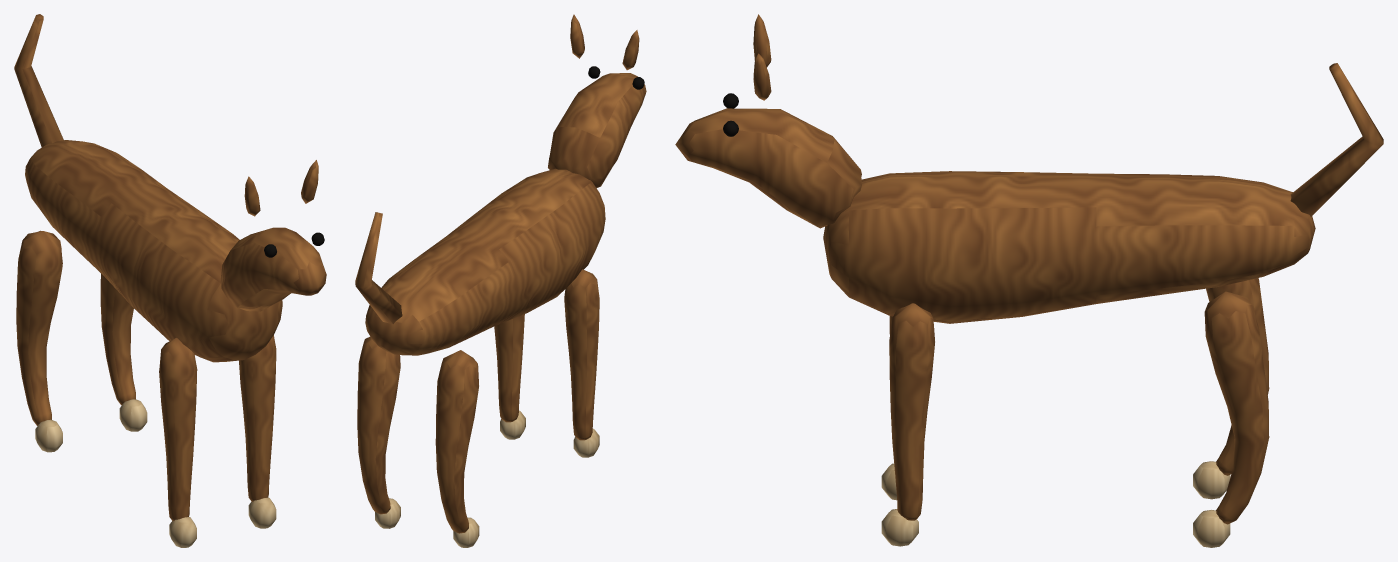
The model's file is animal_village_dog.glb.
3 renders of one model, left to right at view 1: azimuth 30°, elevation 25°; view 2: azimuth 150°, elevation 25°; view 3: azimuth 270°, elevation 25°, orthographic. The views are drawn at different scales.
Visible parts, largest first — view 1: Body.003, Head.003, Leg_BL.003, Leg_FL.003, Leg_FR.003, Leg_BR.003, Tail.003, Leg_BR_Foot.003, Leg_BL_Foot.003, Leg_FR_Foot.003, Leg_FL_Foot.003; view 2: Body.003, Head.003, Leg_BL.003, Leg_BR.003, Leg_FL.003, Leg_FR.003, Tail.003, Leg_FL_Foot.003, Leg_BL_Foot.003, Leg_FR_Foot.003, Leg_BR_Foot.003; view 3: Body.003, Head.003, Leg_BR.003, Leg_FR.003, Tail.003, Leg_BL.003, Leg_BR_Foot.003, Leg_BL_Foot.003, Leg_FR_Foot.003.
Boxes of the visible parts, <box> form: Body.003: <box>25,140,282,362</box>; Head.003: <box>220,160,326,311</box>; Leg_BL.003: <box>16,230,62,425</box>; Leg_FL.003: <box>159,338,197,521</box>; Leg_FR.003: <box>239,335,276,501</box>; Leg_BR.003: <box>100,273,135,405</box>; Tail.003: <box>14,14,63,147</box>; Leg_BR_Foot.003: <box>119,399,147,431</box>; Leg_BL_Foot.003: <box>35,419,62,452</box>; Leg_FR_Foot.003: <box>248,497,276,528</box>; Leg_FL_Foot.003: <box>169,517,196,547</box>; Body.003: <box>365,168,605,355</box>; Head.003: <box>548,14,646,188</box>; Leg_BL.003: <box>435,350,478,533</box>; Leg_BR.003: <box>357,337,400,514</box>; Leg_FL.003: <box>564,269,599,440</box>; Leg_FR.003: <box>494,314,524,422</box>; Tail.003: <box>355,212,402,324</box>; Leg_FL_Foot.003: <box>573,428,599,457</box>; Leg_BL_Foot.003: <box>453,517,479,547</box>; Leg_FR_Foot.003: <box>500,410,525,439</box>; Leg_BR_Foot.003: <box>375,498,400,528</box>; Body.003: <box>823,171,1315,323</box>; Head.003: <box>675,14,861,228</box>; Leg_BR.003: <box>1204,291,1269,524</box>; Leg_FR.003: <box>889,303,934,520</box>; Tail.003: <box>1290,63,1383,216</box>; Leg_BL.003: <box>1206,278,1269,475</box>; Leg_BR_Foot.003: <box>1193,510,1230,547</box>; Leg_BL_Foot.003: <box>1193,461,1230,499</box>; Leg_FR_Foot.003: <box>881,509,918,546</box>.
Bounding box in the file's own units: 0.25 × 0.7978 × 1.05.
3 materials, 3 textured.
